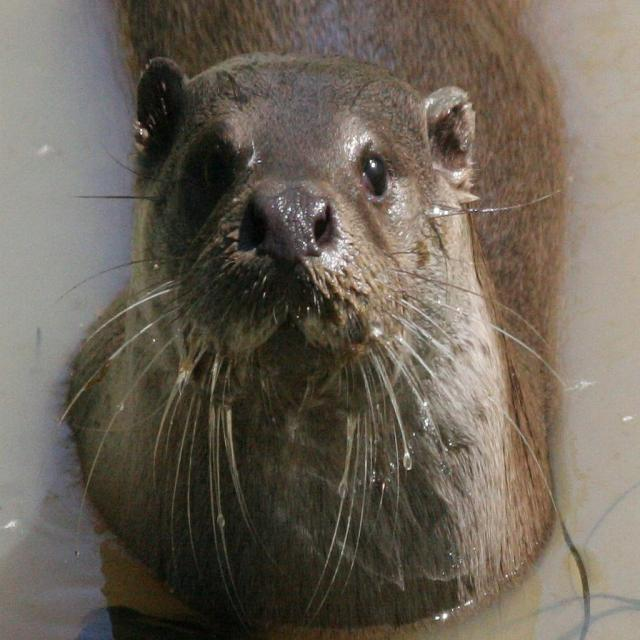otter: (124, 50, 547, 598)
